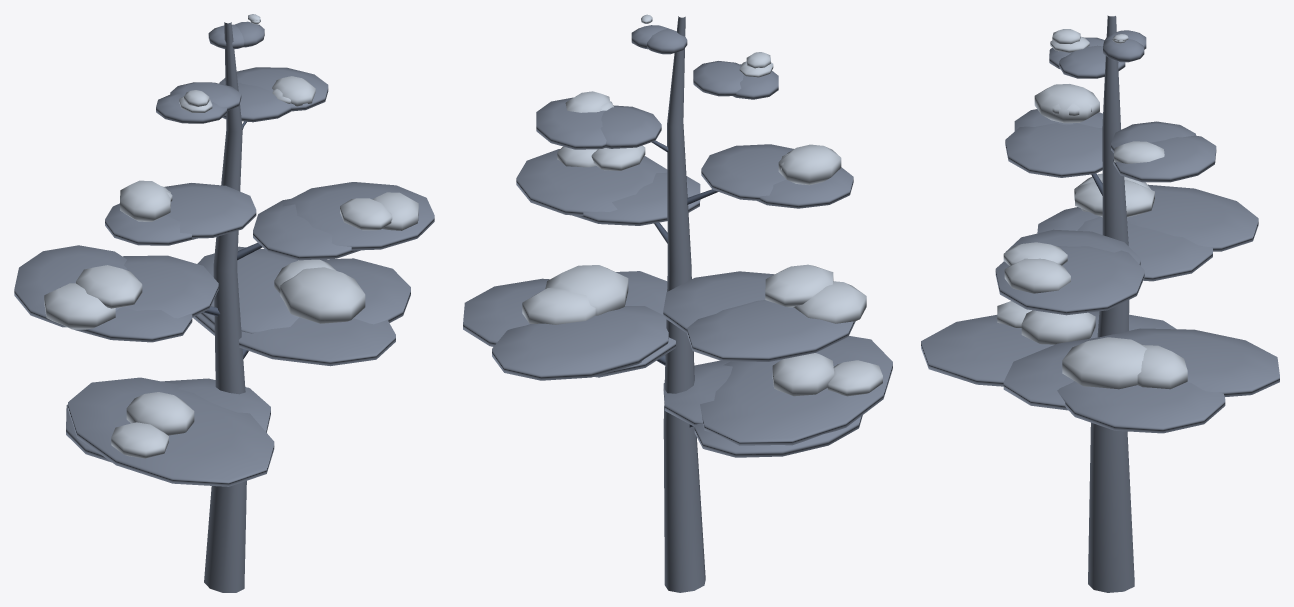
File: 层叠景松-lite.glb
3 renders of one model, left to right at view 1: azimuth 30°, elevation 25°; view 2: azimuth 150°, elevation 25°; view 3: azimuth 270°, elevation 25°, orthographic.
Visible parts, largest first — view 1: garden-conifer-layered-leaf, garden-conifer-layered-light, garden-conifer-layered-trunk; view 2: garden-conifer-layered-leaf, garden-conifer-layered-light, garden-conifer-layered-trunk; view 3: garden-conifer-layered-leaf, garden-conifer-layered-light, garden-conifer-layered-trunk.
Part boxes in pixels (<box>): garden-conifer-layered-leaf: <box>14,21,434,486</box>; garden-conifer-layered-light: <box>44,14,418,458</box>; garden-conifer-layered-trunk: <box>204,22,246,592</box>; garden-conifer-layered-leaf: <box>463,25,892,457</box>; garden-conifer-layered-light: <box>522,14,882,396</box>; garden-conifer-layered-trunk: <box>663,16,705,592</box>; garden-conifer-layered-leaf: <box>921,30,1279,433</box>; garden-conifer-layered-light: <box>997,29,1187,389</box>; garden-conifer-layered-trunk: <box>1088,15,1134,592</box>.
Size of the model in its own units: 2 by 2.9 by 1.65.
